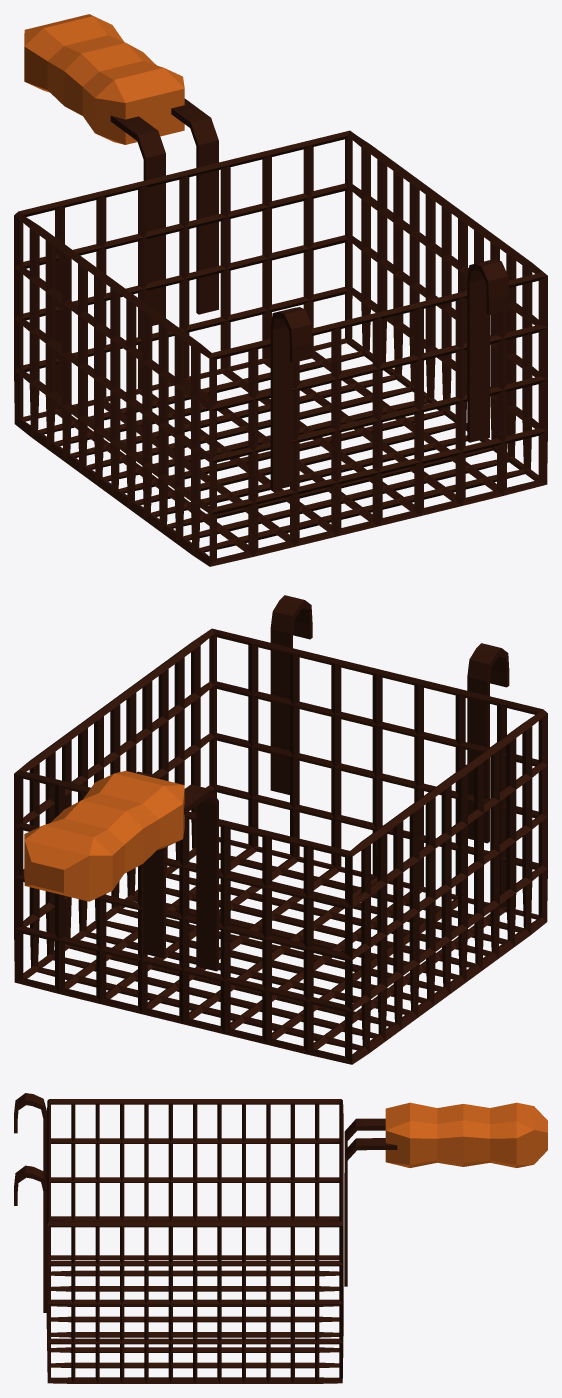
The model's file is Greasy Frier basket with handle.fbx.
3 renders of one model, top to bottom at view 1: azimuth 30°, elevation 25°; view 2: azimuth 150°, elevation 25°; view 3: azimuth 270°, elevation 25°, orthographic. The views are drawn at different scales.
Parts seen in each view (by area): view 1: fry basket, handle.001; view 2: fry basket, handle.001; view 3: fry basket, handle.001.
Boxes of the visible parts, x1=… form: fry basket: x1=14, y1=98, x2=547, y2=566; handle.001: x1=24, y1=14, x2=184, y2=144; fry basket: x1=14, y1=595, x2=547, y2=1064; handle.001: x1=24, y1=771, x2=184, y2=901; fry basket: x1=14, y1=1093, x2=397, y2=1383; handle.001: x1=385, y1=1102, x2=547, y2=1167.
Bounding box in the file's own units: 140 × 109 × 251.
